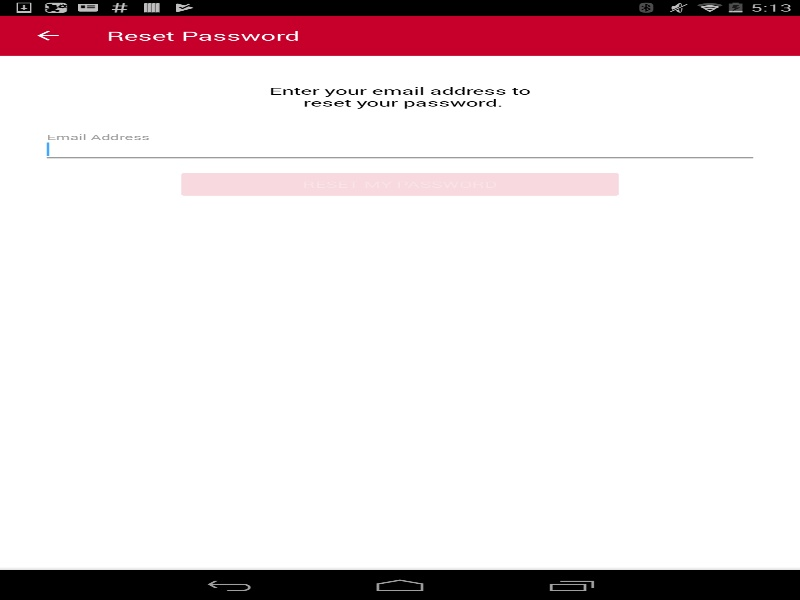Button: (181, 173, 618, 195), (10, 15, 85, 55)
Input: (46, 140, 753, 160)
